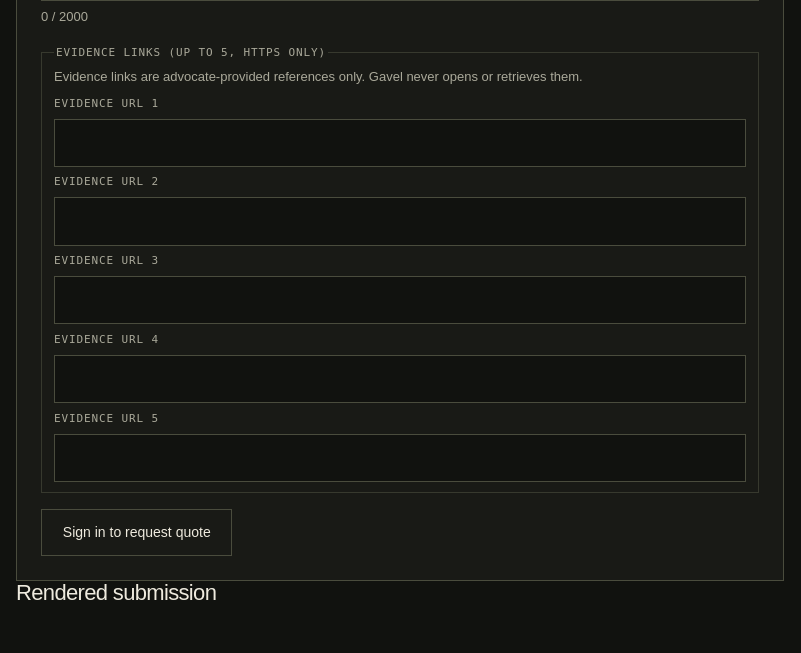
SubmissionComposer advocate session › reports a malformed signature without leaving a stale session
(page scrolled)
Click the button "Sign in to request quote".
click(137, 532)  # box [41,509,232,556]
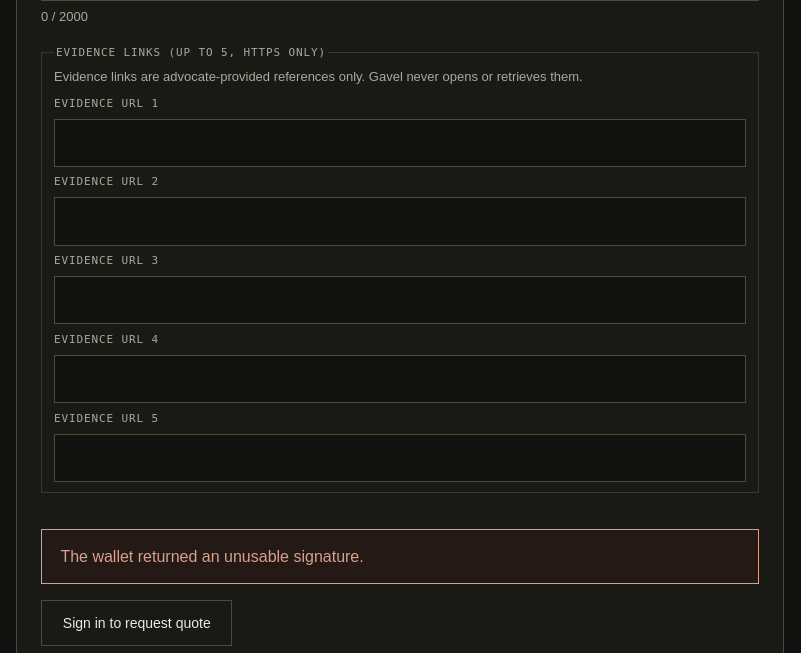
Expected: the button "Sign in to request quote" is shown, [41,600,232,646]
Now the message "The wallet returned an unusable signature." is shown, box [41,529,759,584]
